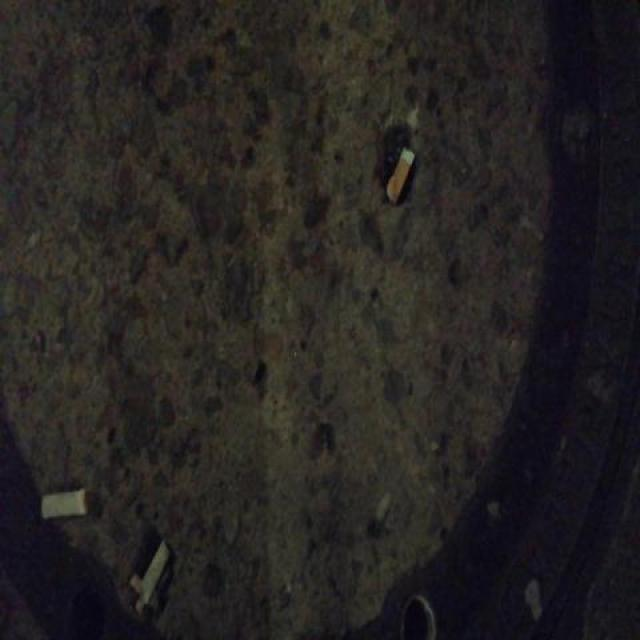non-organic waste: (136, 537, 176, 606), (382, 142, 417, 210), (37, 484, 94, 524)
